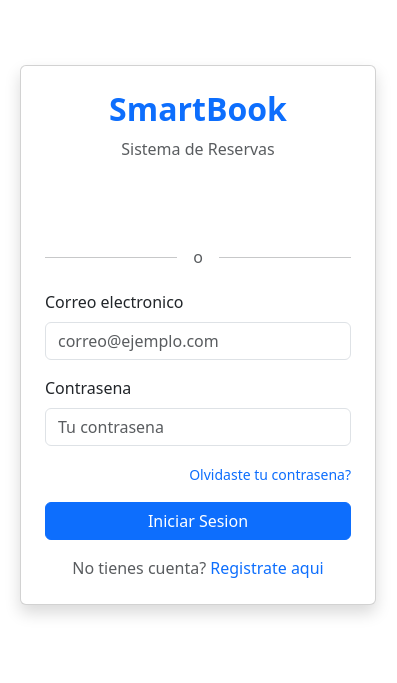
Test case: Autenticacion › Login de Usuario › TC-009: Login con credenciales incorrectas
The width and height of the screenshot is (397, 683).
In the field with id "email": (198, 341) [45,322,351,360], type "cliente@test.com"
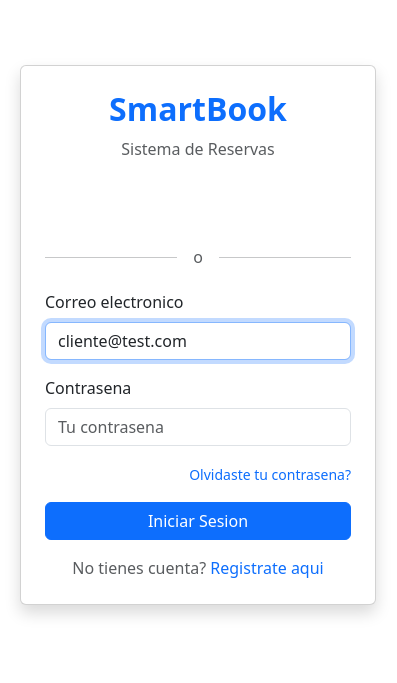
In the password field labelled "Contrasena": (198, 427) [45,408,351,446], type "wrongpassword"
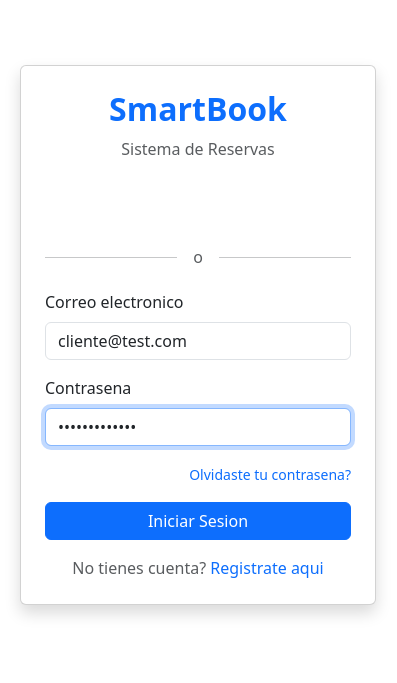
Click the submit button: (198, 521) [45,502,351,540]
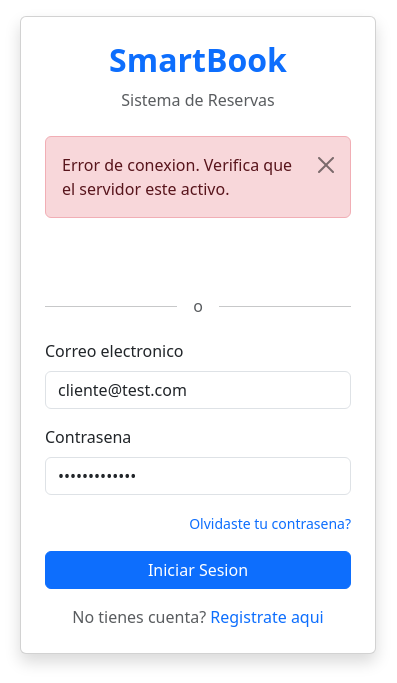
Now the message "Error de conexion. Verifica que el servidor este activo." is shown, box [45,136,351,218]
